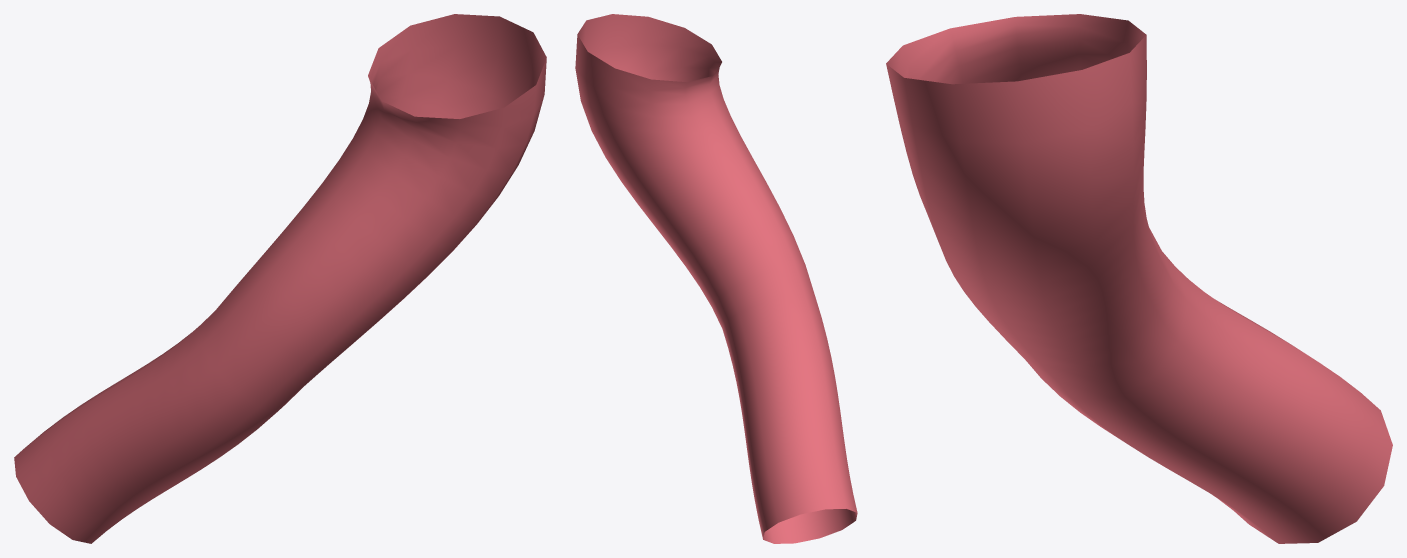
3 views of the same model, side by side, from view 1: azimuth 30°, elevation 25°; view 2: azimuth 150°, elevation 25°; view 3: azimuth 270°, elevation 25° (orthographic). The views are drawn at different scales.
Visible parts, largest first — view 1: ZA_4064577f400f963c; view 2: ZA_4064577f400f963c; view 3: ZA_4064577f400f963c.
Part boxes in pixels (x1,y1,x2,y2): ZA_4064577f400f963c: [14, 14, 546, 543]; ZA_4064577f400f963c: [575, 14, 857, 543]; ZA_4064577f400f963c: [886, 14, 1392, 543].
Size of the model in its own units: 0.0482 by 0.0537 by 0.0348.
